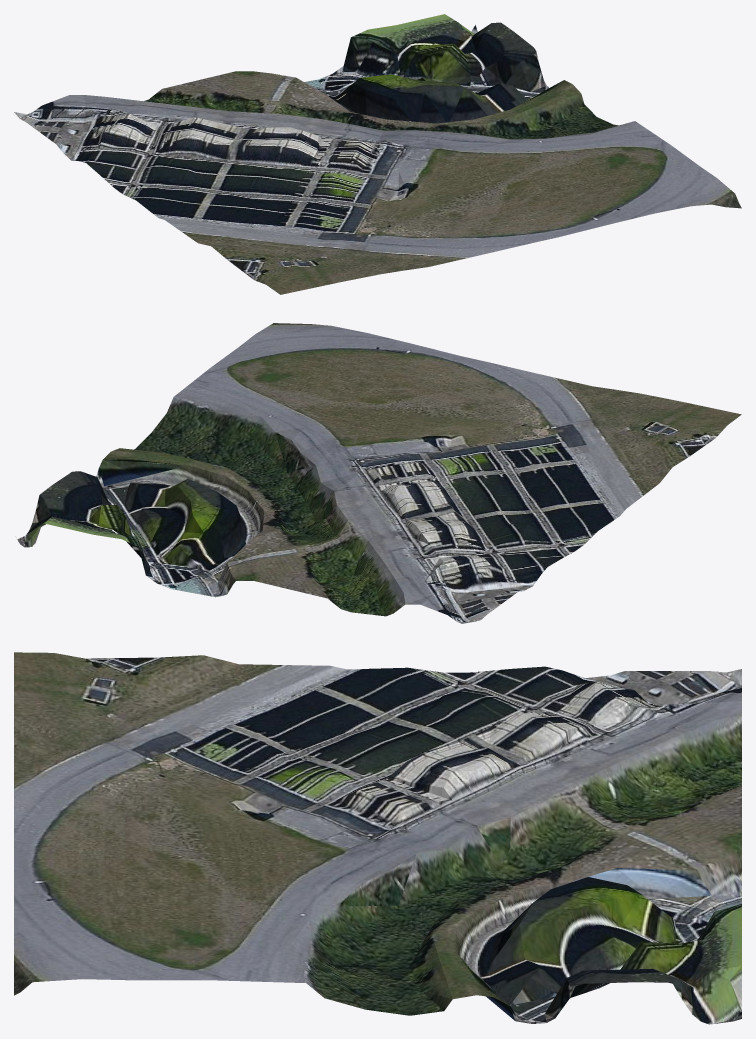
File: map_15_8180_13776.dae
The picture shows the model from 3 angles, top to bottom: view 1: azimuth 30°, elevation 25°; view 2: azimuth 150°, elevation 25°; view 3: azimuth 270°, elevation 25°; orthographic projection. The views are drawn at different scales.
Parts seen in each view (by area): view 1: Ter0; view 2: Ter0; view 3: Ter0.
Part boxes in pixels (x1=…): Ter0: x1=14, y1=14, x2=741, y2=294; Ter0: x1=17, y1=323, x2=741, y2=623; Ter0: x1=14, y1=652, x2=741, y2=1024.
Size of the model in its own units: 63.88 by 63.88 by 7.41.
3 materials, 3 textured.
